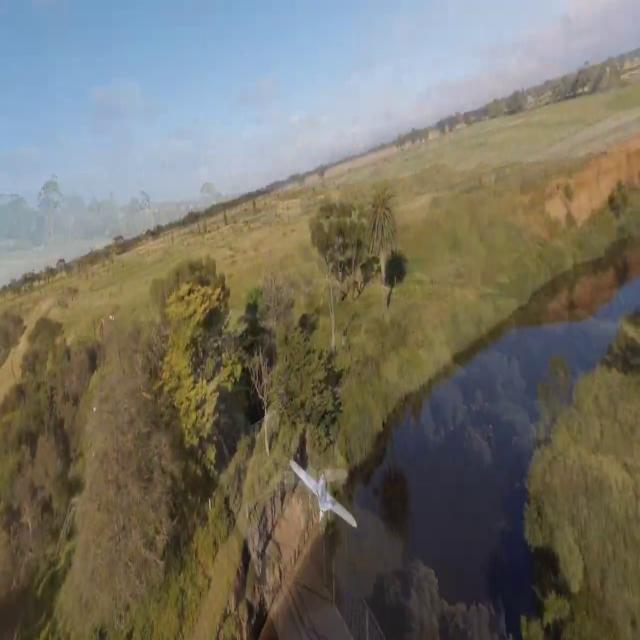iha: (323, 491, 326, 495)
